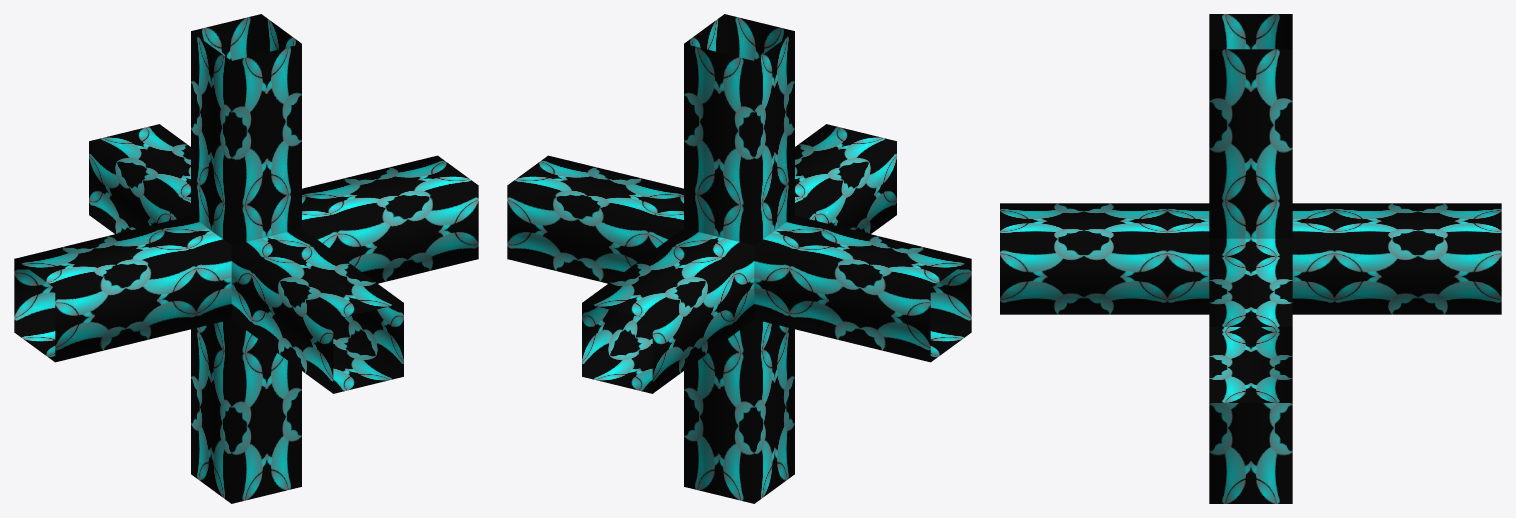
File: Tetrahemihexacron22.gltf
3 renders of one model, left to right at view 1: azimuth 30°, elevation 25°; view 2: azimuth 150°, elevation 25°; view 3: azimuth 270°, elevation 25°, orthographic. The views are drawn at different scales.
Visible parts, largest first — view 1: Tetrahemihexacron1; view 2: Tetrahemihexacron1; view 3: Tetrahemihexacron1.
Boxes of the visible parts, x1,y1,x2,y2 form: Tetrahemihexacron1: [14, 14, 478, 503]; Tetrahemihexacron1: [507, 14, 971, 503]; Tetrahemihexacron1: [1000, 14, 1501, 503].
Size of the model in its own units: 6 by 6 by 6.
Materials: 1 (1 with a texture image).
